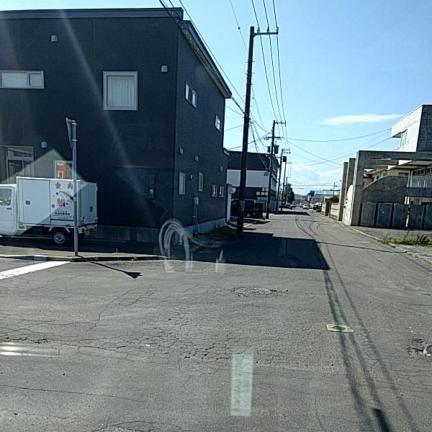Road: (0, 211, 431, 431)
